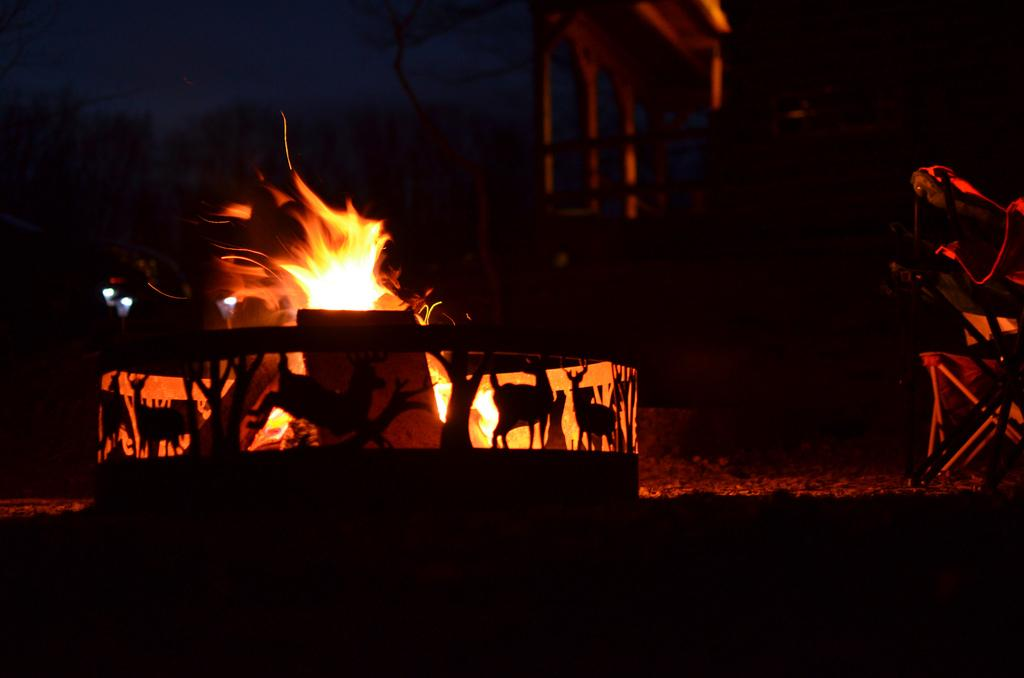fire: (277, 217, 400, 307)
